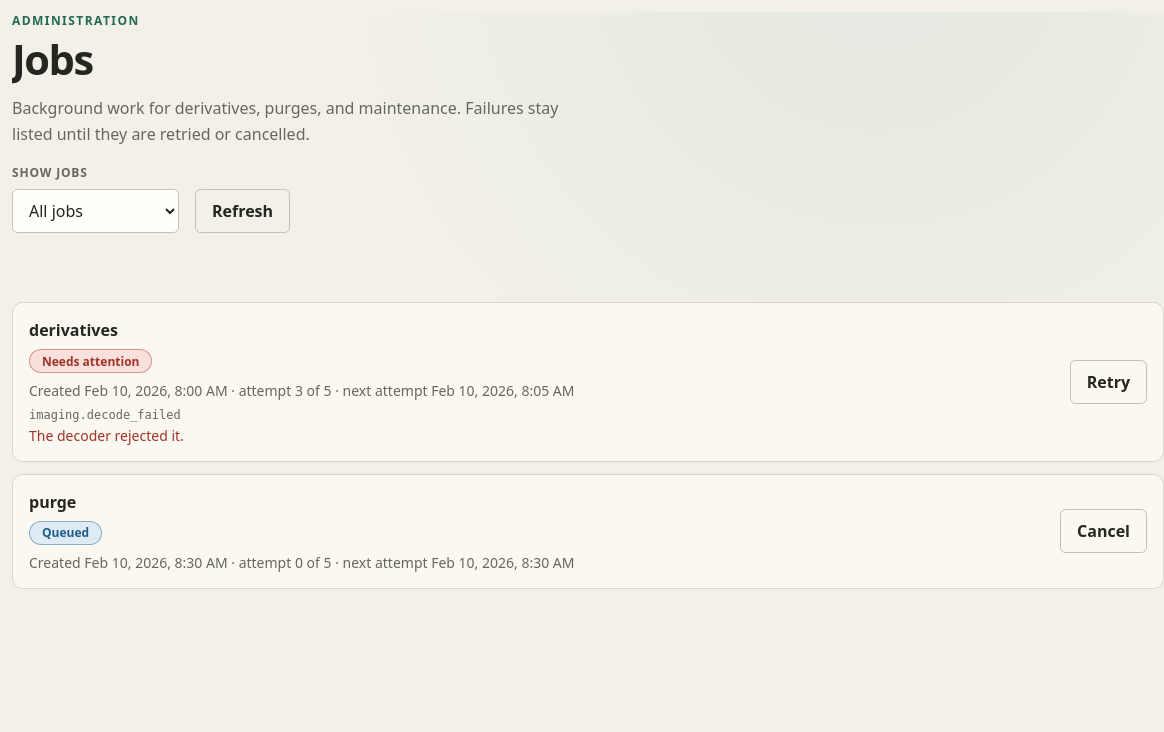
Test: administration: jobs › explains a stale retry without hiding the queue
Click the button with aria-label "Retry derivatives job" at x=1108, y=382, box [1070, 360, 1147, 404]
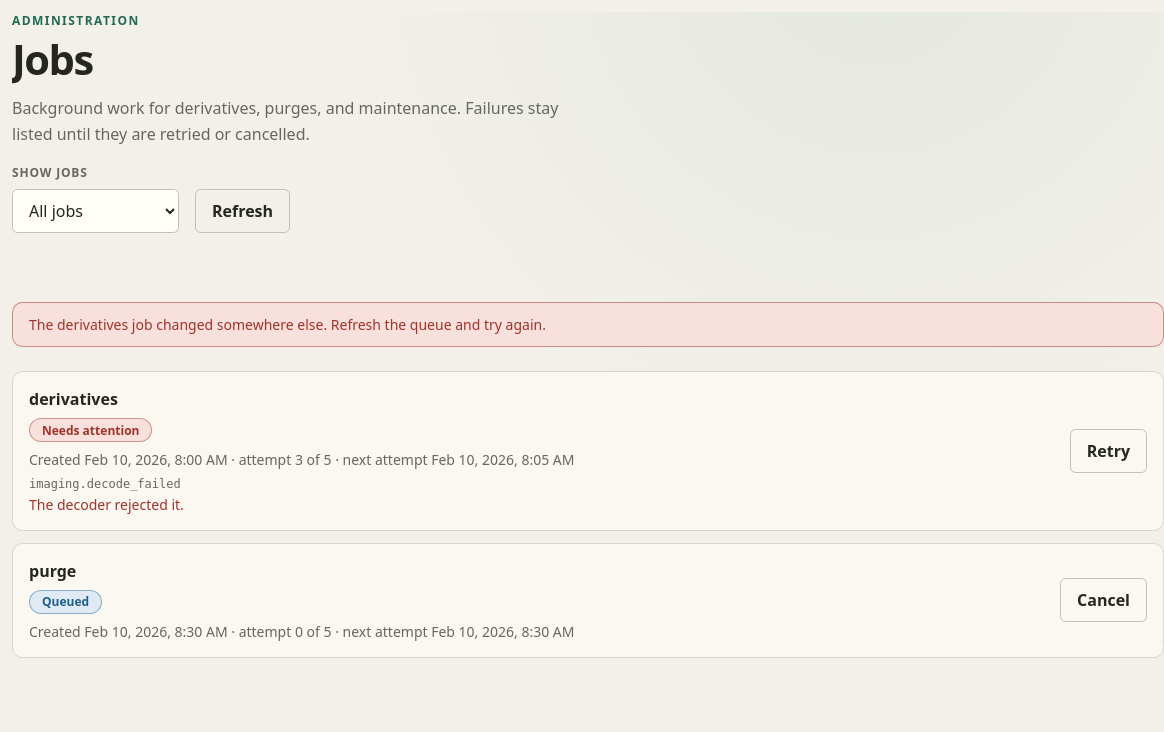
Expected: the text "purge" is shown, [29, 560, 76, 582]
Expected: the message "The derivatives job changed somewhere else. Refresh the queue and try again." is shown, [12, 302, 1163, 347]
